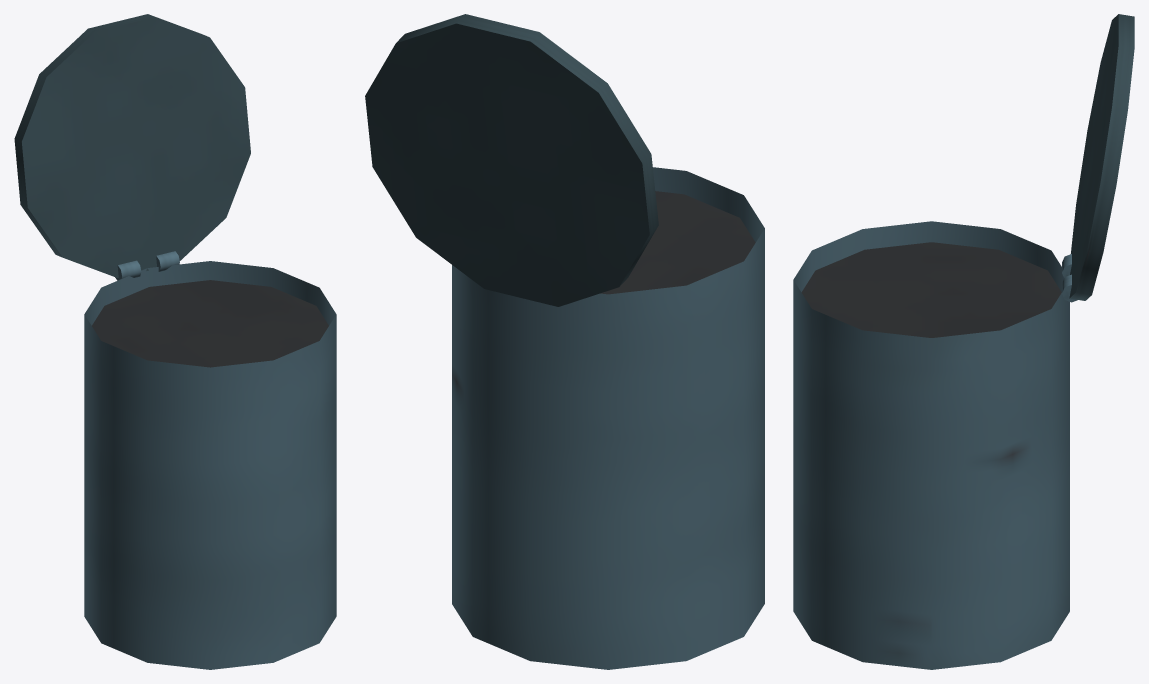
File: bin_prison.fbx
3 views of the same model, side by side, from view 1: azimuth 30°, elevation 25°; view 2: azimuth 150°, elevation 25°; view 3: azimuth 270°, elevation 25° (orthographic). The views are drawn at different scales.
Visible parts, largest first — view 1: bin_prison; view 2: bin_prison; view 3: bin_prison.
Part boxes in pixels (<box>): bin_prison: <box>14,14,336,669</box>; bin_prison: <box>365,14,764,669</box>; bin_prison: <box>793,14,1134,669</box>.
Size of the model in its own units: 0.3477 by 0.7886 by 0.4194.
1 material, 1 textured.
